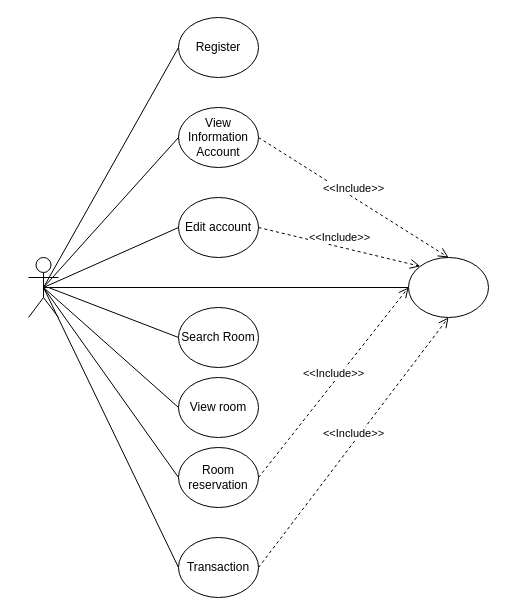
Some shapes in this 506 by 615 pixel diagram are drawn without their labels. Here are the shapes that lost their labels. From the top down, the box of each, then its label:
(28, 256, 58, 318): Customer
(408, 256, 488, 318): Login
